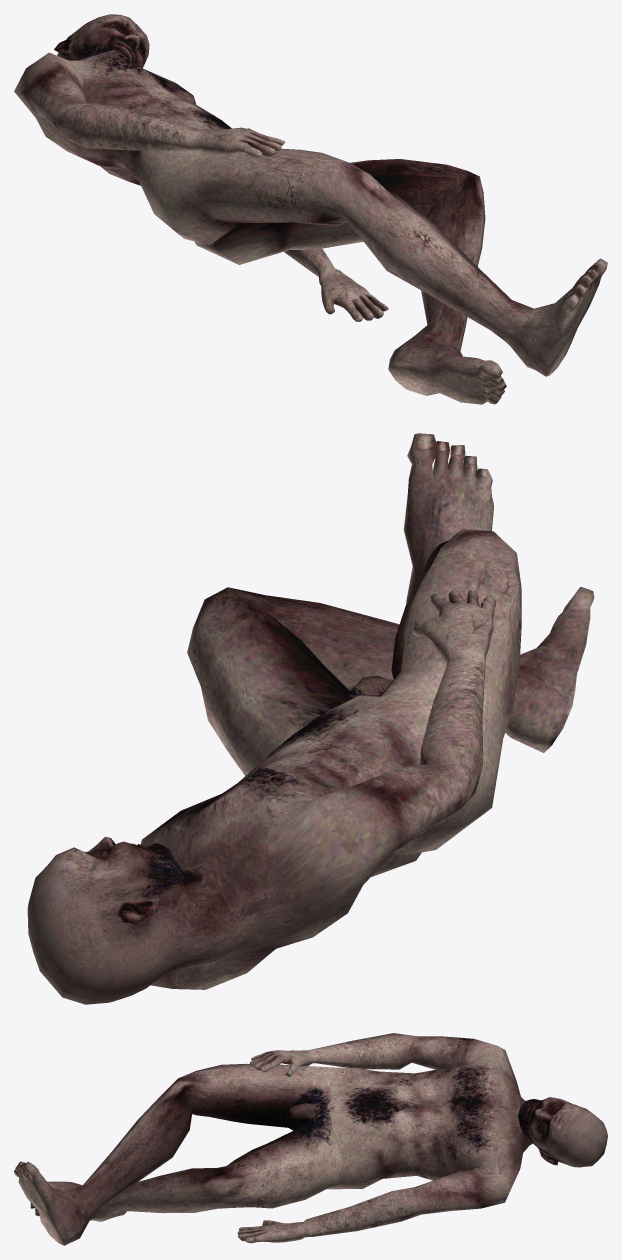
File: graveyard_corpse03.dae
The picture shows the model from 3 angles, top to bottom: view 1: azimuth 30°, elevation 25°; view 2: azimuth 150°, elevation 25°; view 3: azimuth 270°, elevation 25°; orthographic projection. The views are drawn at different scales.
Parts seen in each view (by area): view 1: graveyard_corpse03; view 2: graveyard_corpse03; view 3: graveyard_corpse03.
Part boxes in pixels (bbox=[...]): graveyard_corpse03: bbox=[14, 14, 607, 404]; graveyard_corpse03: bbox=[27, 433, 594, 1004]; graveyard_corpse03: bbox=[14, 1033, 607, 1245].
Bounding box in the file's own units: 0.773 × 0.4753 × 1.74.
